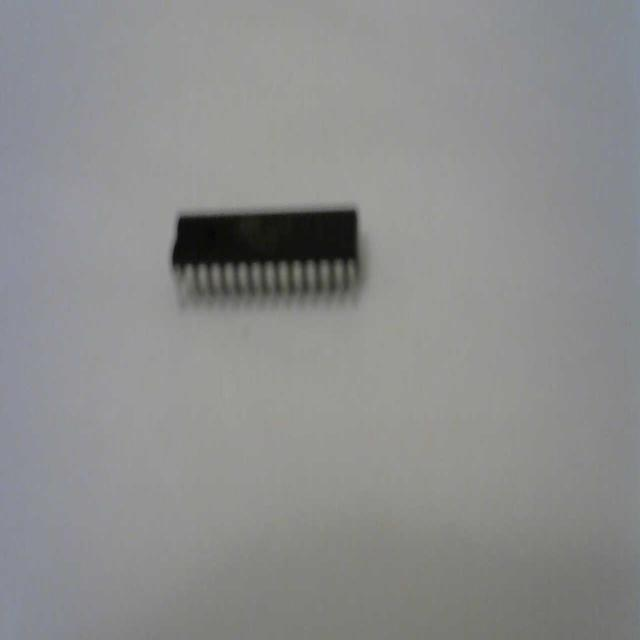atmega: (168, 202, 362, 314)
